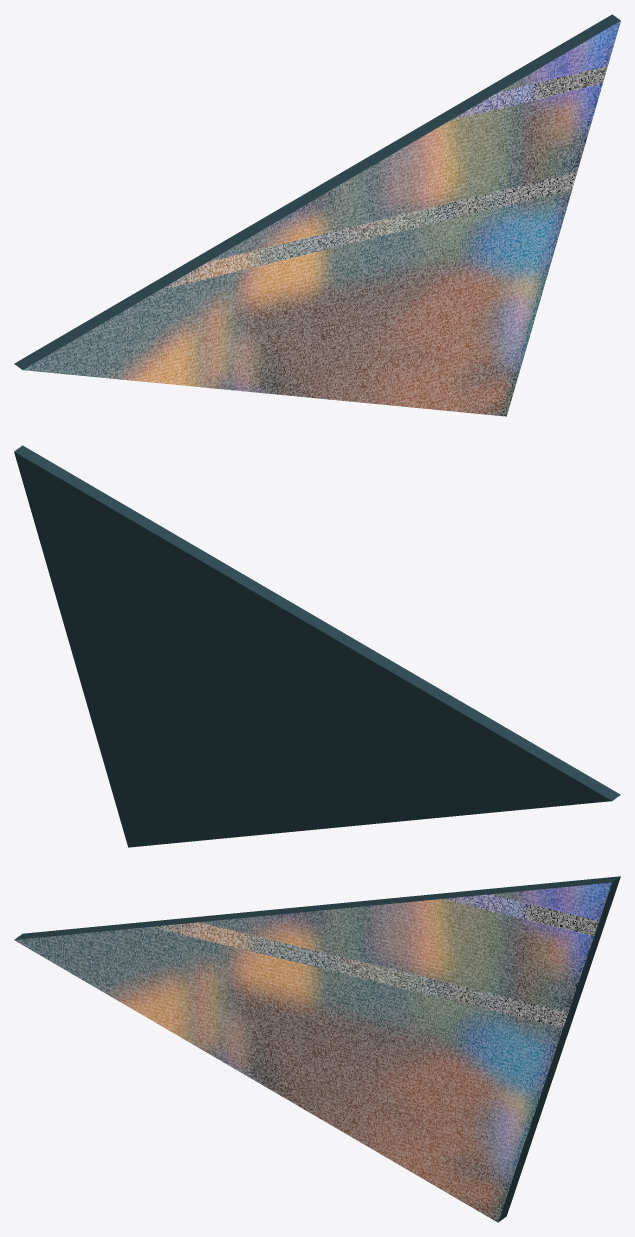
3 renders of one model, top to bottom at view 1: azimuth 30°, elevation 25°; view 2: azimuth 150°, elevation 25°; view 3: azimuth 330°, elevation 25°, orthographic.
Parts seen in each view (by area): view 1: Piece_03; view 2: Piece_03; view 3: Piece_03.
Boxes of the visible parts, x1,y1,x2,y2 form: Piece_03: [14, 14, 620, 416]; Piece_03: [14, 445, 620, 847]; Piece_03: [14, 876, 620, 1222].
Size of the model in its own units: 1 by 0.5878 by 0.025.
2 materials, 1 textured.
